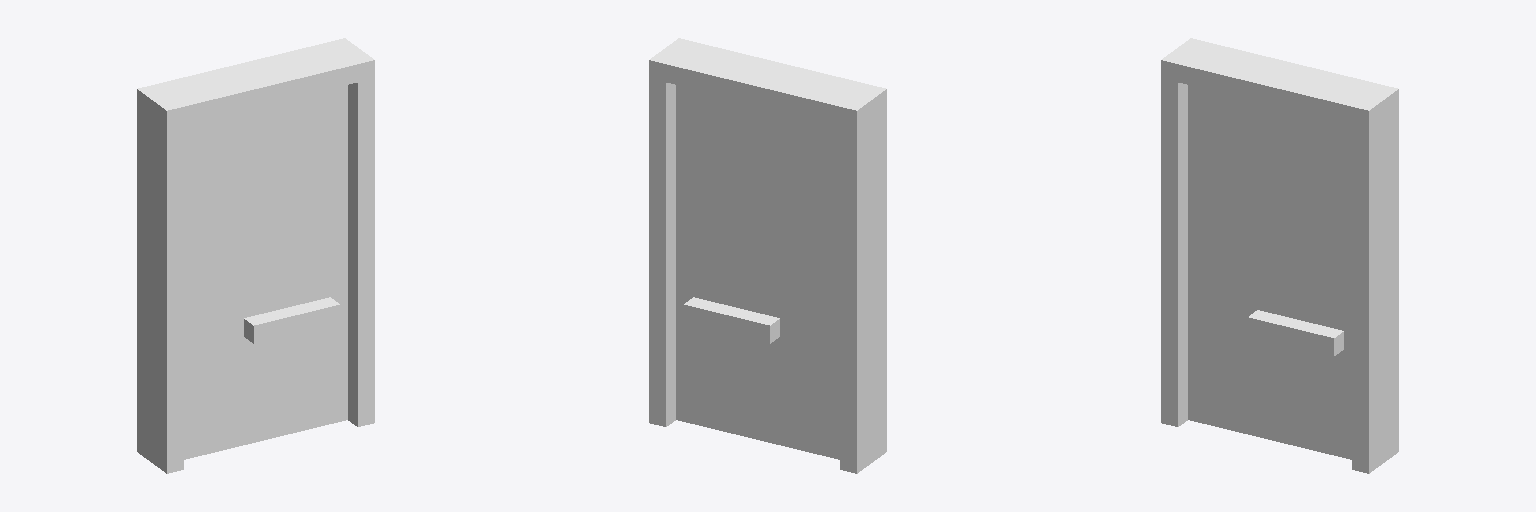
The model's file is wall_normal_door-door.obj.
3 renders of one model, left to right at view 1: azimuth 30°, elevation 25°; view 2: azimuth 150°, elevation 25°; view 3: azimuth 330°, elevation 25°, orthographic.
Parts seen in each view (by area): view 1: object 1; view 2: object 1; view 3: object 1.
Boxes of the visible parts, x1,y1,x2,y2 form: object 1: [137, 38, 374, 473]; object 1: [649, 38, 886, 473]; object 1: [1161, 38, 1398, 473].
Size of the model in its own units: 1.2 by 2 by 0.3.